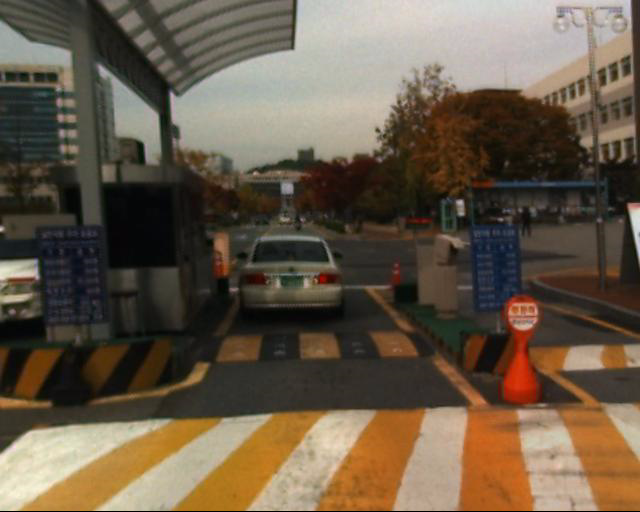person: (516, 203, 536, 245)
